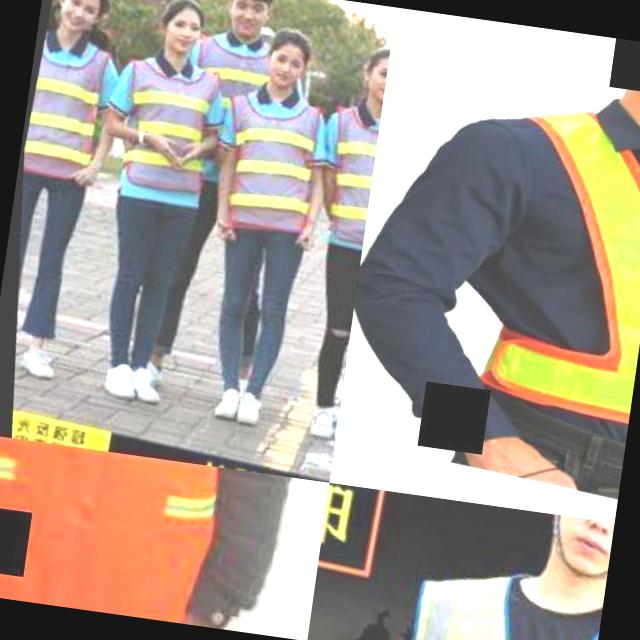vest: (427, 83, 640, 474), (0, 434, 281, 635), (373, 541, 607, 640), (94, 51, 233, 210), (207, 96, 341, 234), (15, 36, 120, 199), (307, 112, 380, 240)
